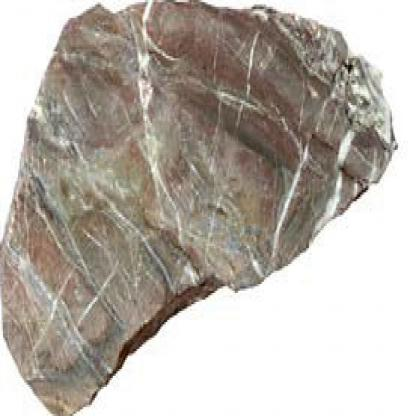Sedimentary_Limestone: (0, 0, 401, 414)
